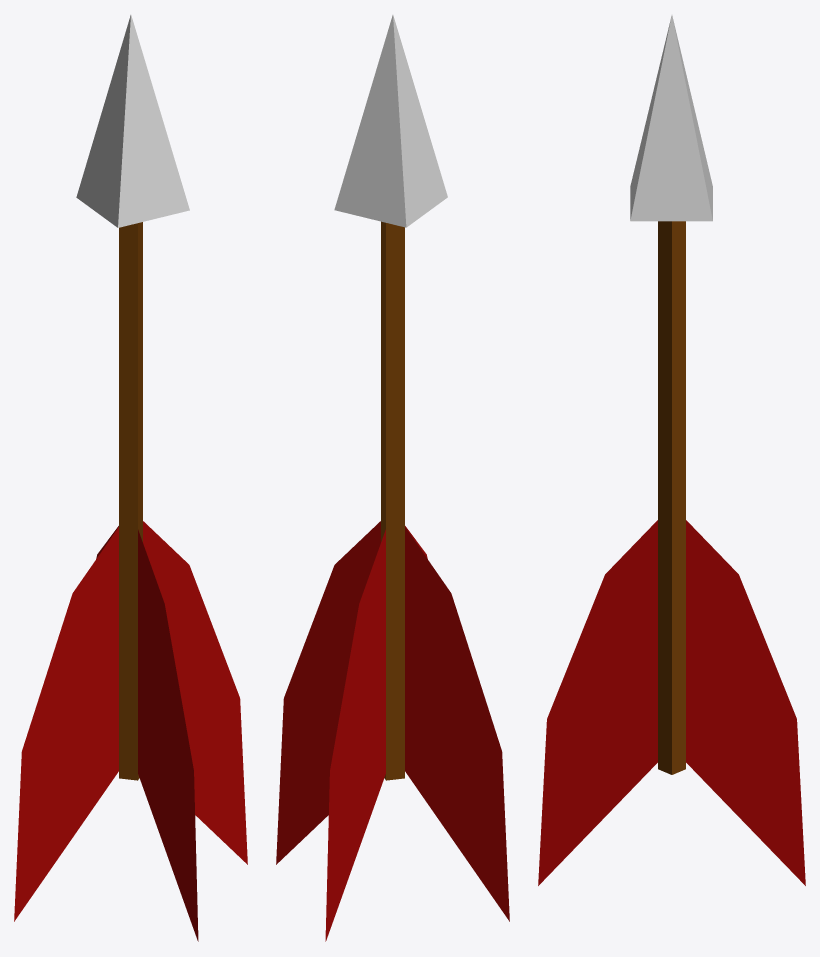
The model's file is Dart Trap Dart.glb.
3 renders of one model, left to right at view 1: azimuth 30°, elevation 25°; view 2: azimuth 150°, elevation 25°; view 3: azimuth 270°, elevation 25°, orthographic.
Visible parts, largest first — view 1: Dart; view 2: Dart; view 3: Dart.
Boxes of the visible parts, x1,y1,x2,y2 form: Dart: [14, 15, 247, 941]; Dart: [276, 15, 509, 941]; Dart: [538, 15, 805, 885].
Size of the model in its own units: 0.1928 by 0.6931 by 0.1928.
